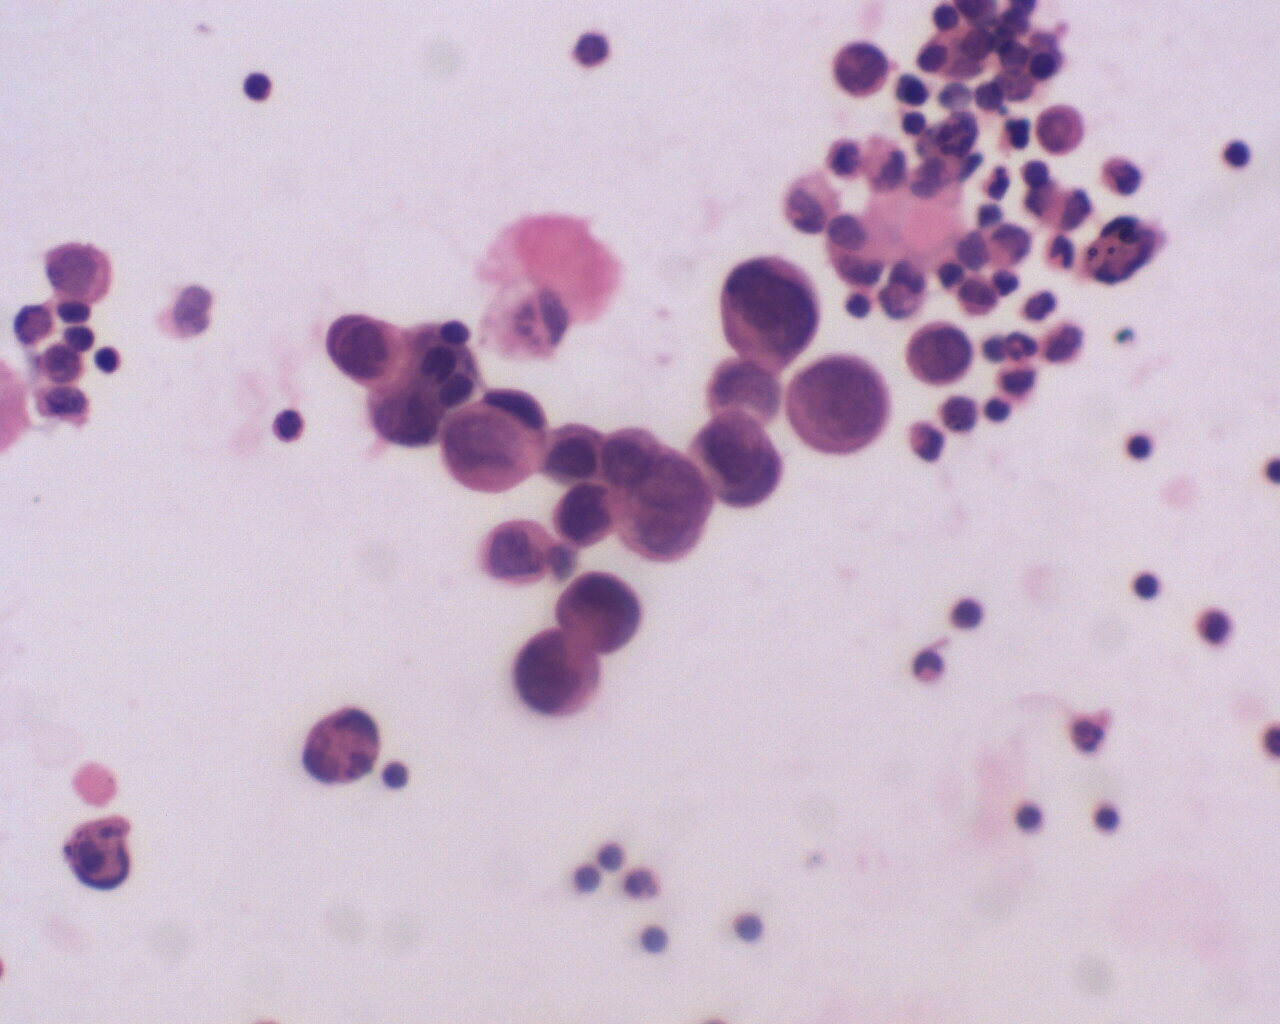ab: (713, 254, 821, 373), (784, 353, 891, 460), (688, 409, 792, 513), (513, 628, 600, 726), (317, 309, 410, 395), (556, 572, 648, 657), (473, 512, 556, 586), (904, 315, 978, 396), (40, 234, 118, 307), (550, 479, 618, 553), (540, 415, 609, 485), (829, 36, 897, 104), (1033, 101, 1089, 159)
lymph: (269, 406, 309, 449), (238, 67, 279, 108), (1123, 425, 1163, 467), (1218, 133, 1257, 174), (376, 757, 413, 797), (1132, 563, 1162, 604), (90, 344, 121, 377)
neutro: (1067, 709, 1111, 759), (910, 642, 950, 685)
